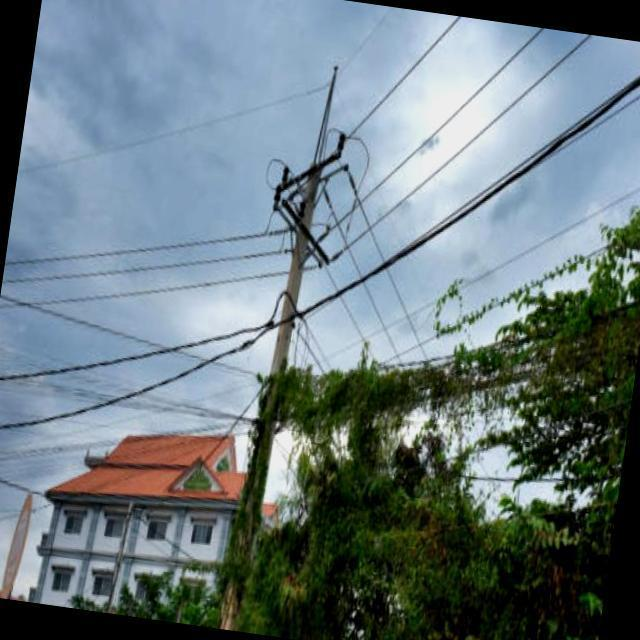critical vegetation: (224, 358, 298, 608)
